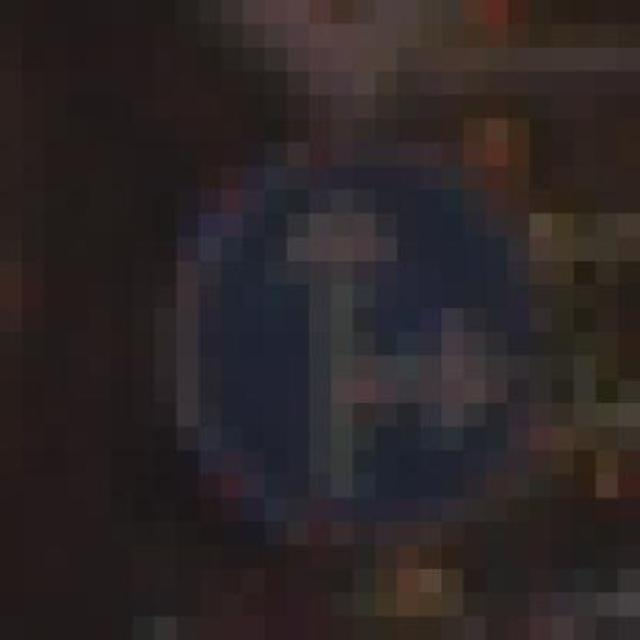Go Straight or Turn Right: (111, 118, 574, 545)
